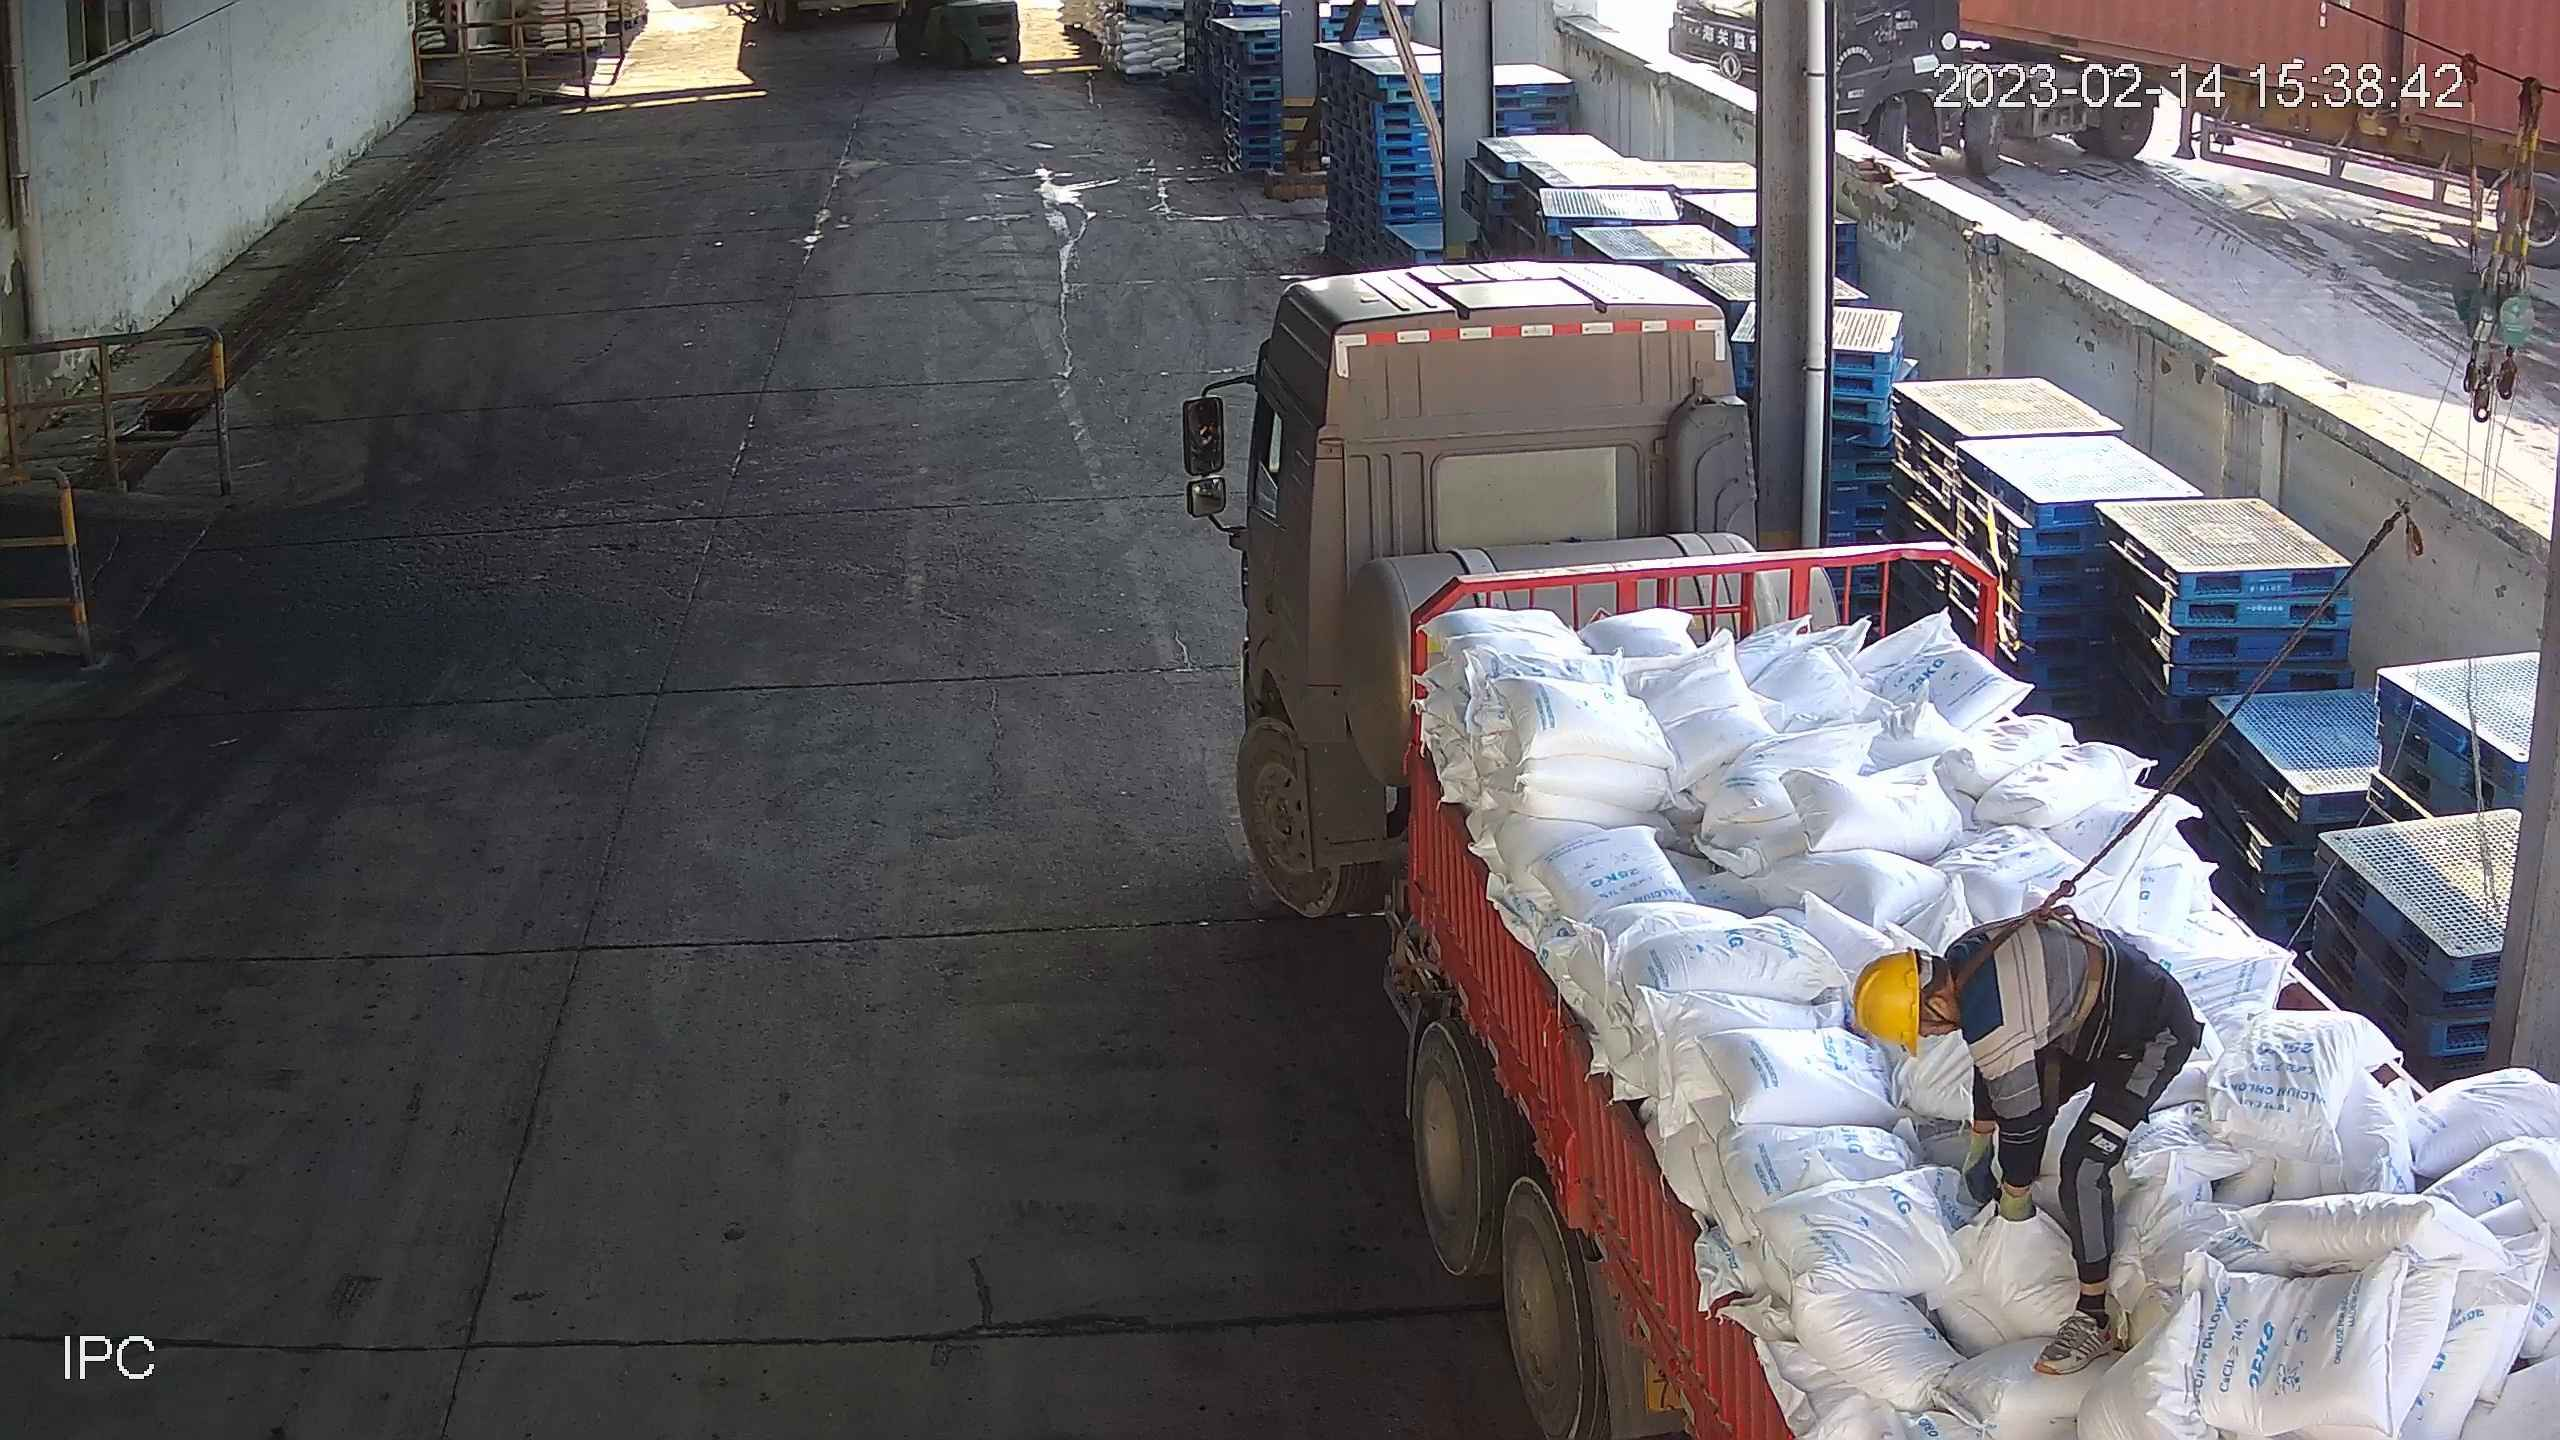belt: (1956, 885, 2109, 1044)
head: (1849, 927, 2063, 1079)
helmet: (1853, 951, 1932, 1055)
people: (1842, 909, 2205, 1372)
truck: (1172, 257, 2560, 1440)
